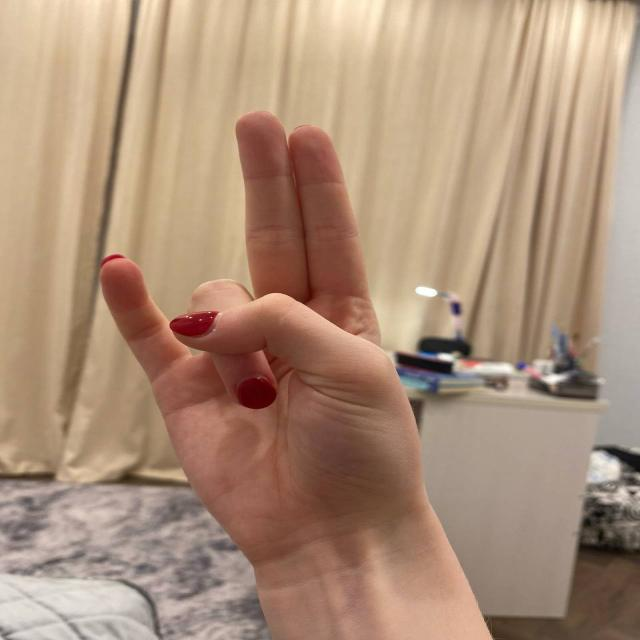n: (67, 112, 456, 513)
